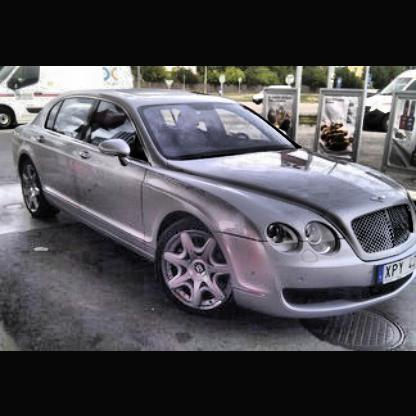Bentley Continental Flying Spur Sedan 2007: (16, 86, 416, 326)
